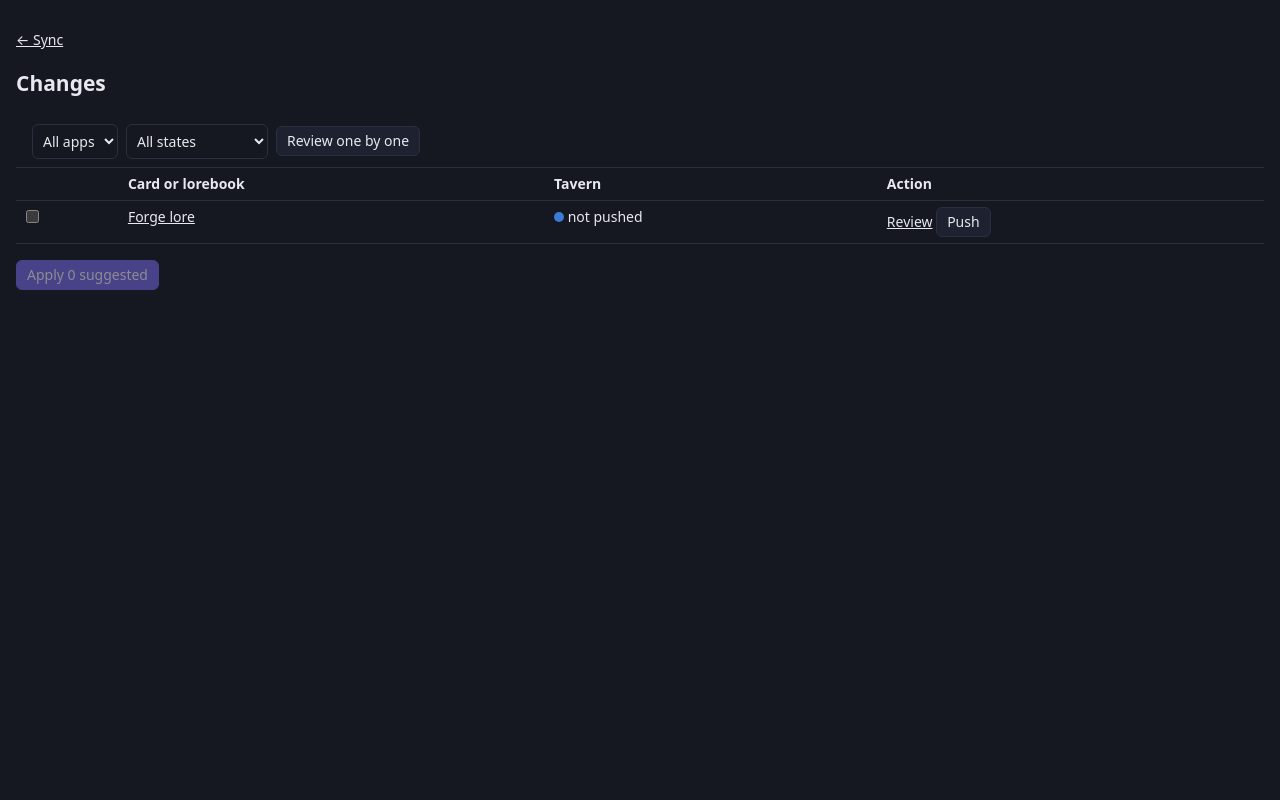
a world book's row reviews and pushes as a lorebook
Click the checkbox. click: (32, 216)
box: top-left (26, 210), bottom-right (39, 223)
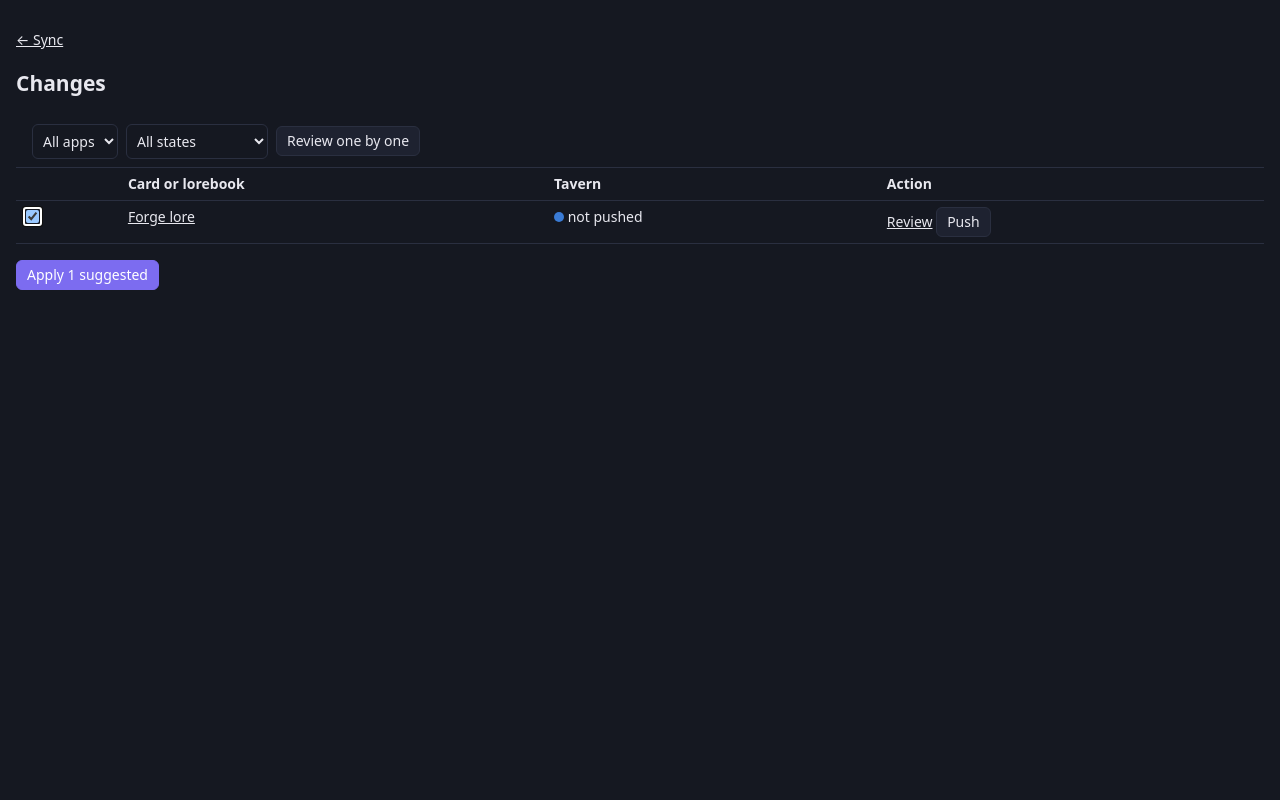
Click the button "Apply 1 suggested". click: (88, 275)
box: top-left (16, 260), bottom-right (159, 290)
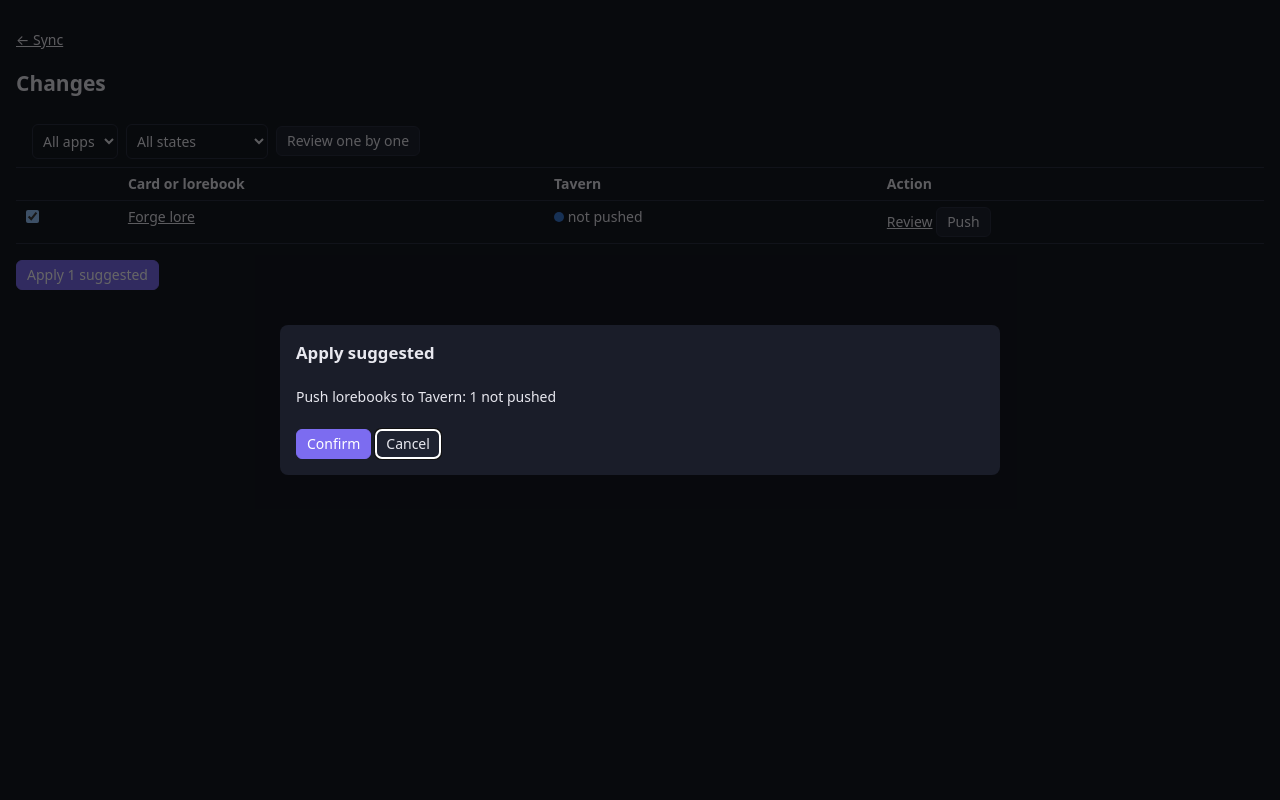
expect the dialog is shown: met, box top-left (280, 324), bottom-right (1000, 475)
